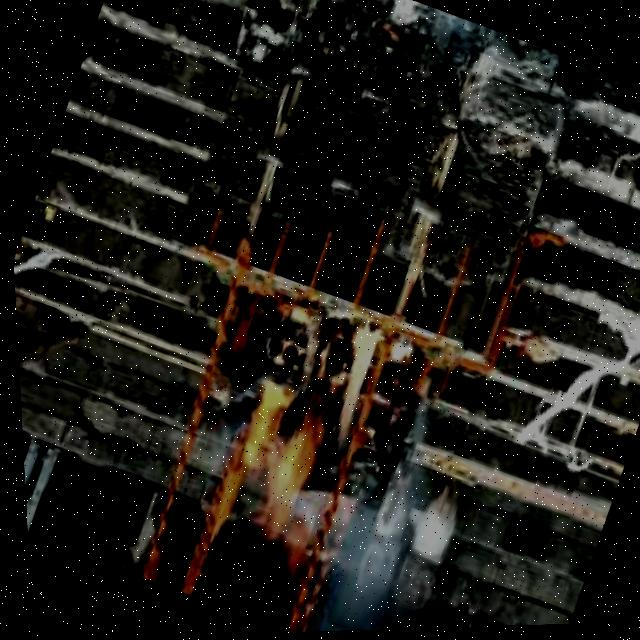Fire: (188, 282, 395, 571)
